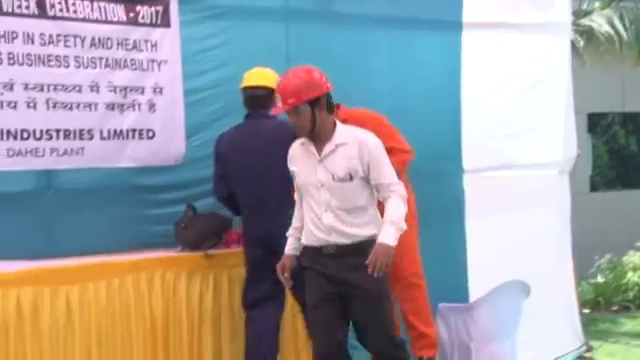helmet: (271, 64, 334, 115), (239, 64, 281, 92)
helmet_on: (268, 63, 343, 148), (236, 63, 280, 119)
person: (274, 64, 409, 360), (333, 103, 443, 360), (217, 64, 309, 360)
